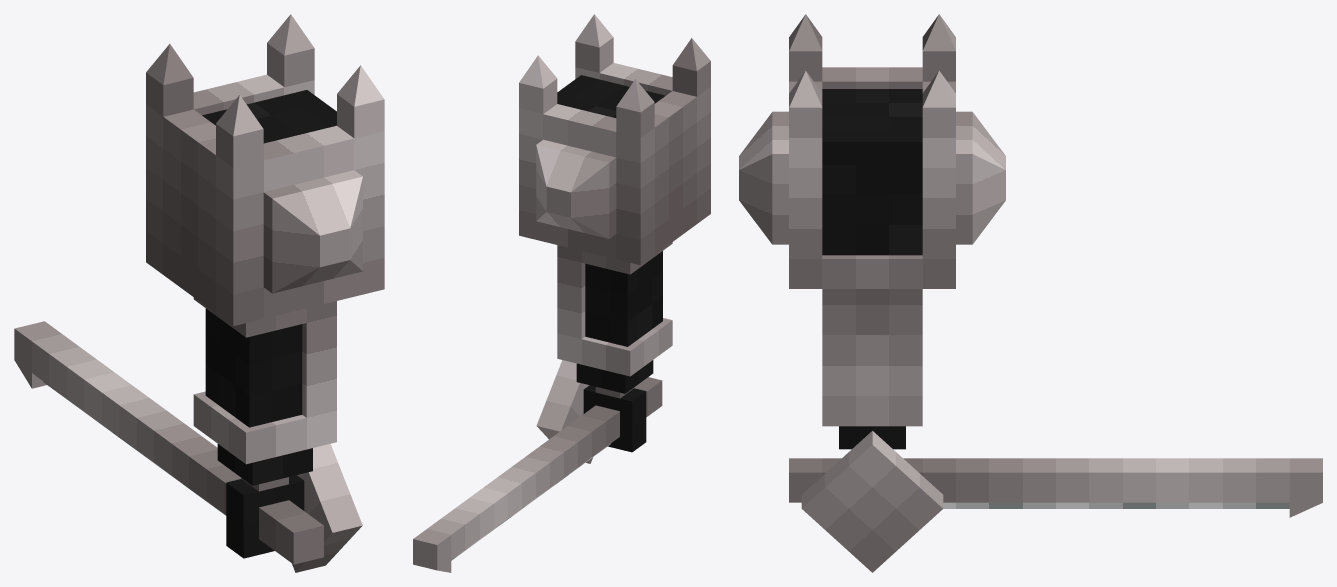
File: arm_fisher_r.obj
The picture shows the model from 3 angles, left to right: view 1: azimuth 30°, elevation 25°; view 2: azimuth 150°, elevation 25°; view 3: azimuth 270°, elevation 25°; orthographic projection. The views are drawn at different scales.
Visible parts, largest first — view 1: ARM_RIGHT_FISHER_Cube.016, ARM_RIGHT_DECO_IRON_Cube.139; view 2: ARM_RIGHT_FISHER_Cube.016, ARM_RIGHT_DECO_IRON_Cube.139; view 3: ARM_RIGHT_FISHER_Cube.016, ARM_RIGHT_DECO_IRON_Cube.139.
Part boxes in pixels (left/top/right/bottom): ARM_RIGHT_FISHER_Cube.016: left=14, top=74, right=384, bottom=572; ARM_RIGHT_DECO_IRON_Cube.139: left=146, top=14, right=384, bottom=293; ARM_RIGHT_FISHER_Cube.016: left=413, top=63, right=710, bottom=572; ARM_RIGHT_DECO_IRON_Cube.139: left=519, top=14, right=710, bottom=238; ARM_RIGHT_FISHER_Cube.016: left=789, top=67, right=1322, bottom=572; ARM_RIGHT_DECO_IRON_Cube.139: left=739, top=14, right=1005, bottom=244.
Size of the model in its own units: 0.3125 by 1.04 by 1.09.
